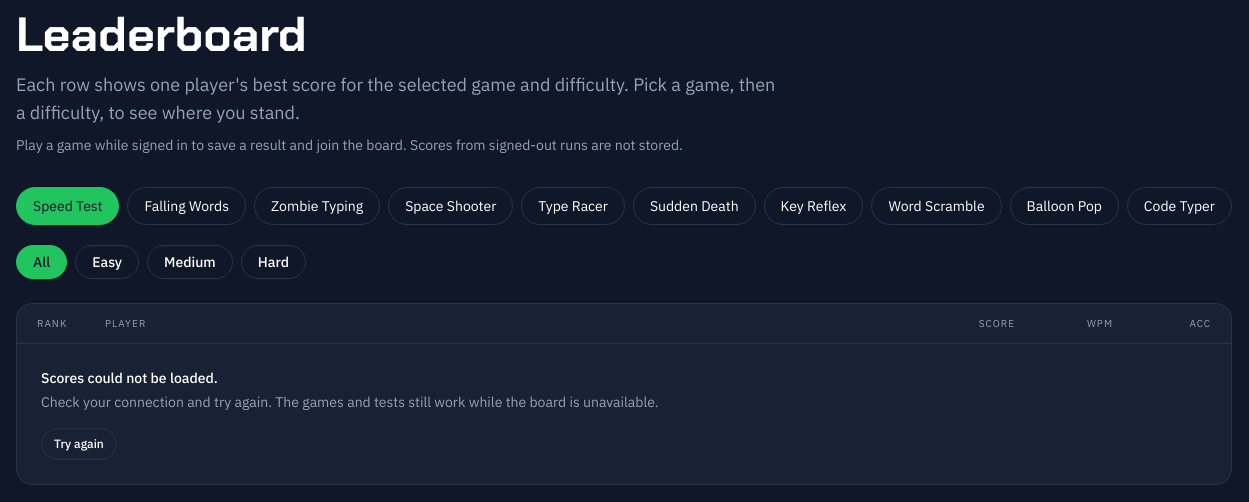
Scenario: Leaderboard request states › retries the request and renders scores
The width and height of the screenshot is (1249, 502).
Expected: the message with test id "leaderboard-error" is shown, x1=41 y1=369 x2=658 y2=460
Click the button with test id "leaderboard-retry".
click(79, 444)  # box x1=41 y1=428 x2=117 y2=460
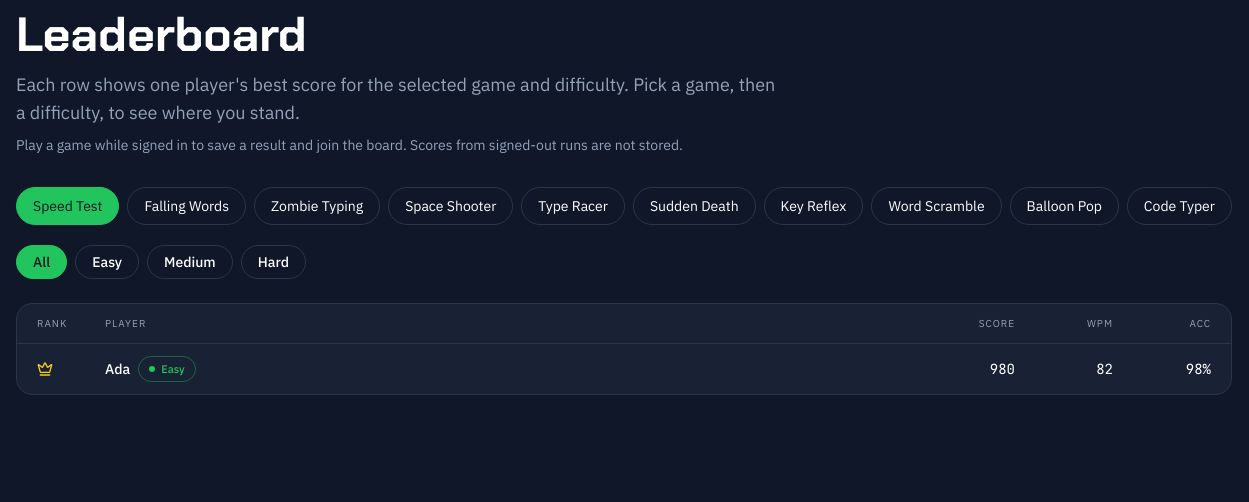
Expected: the element with test id "lb-row-0" is shown, x1=37 y1=356 x2=1211 y2=382
Expected: the text "Ada" is shown, x1=105 y1=359 x2=130 y2=379
